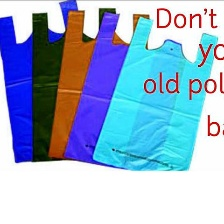plastic_bag: (89, 14, 220, 171), (61, 9, 185, 169), (43, 4, 157, 166), (26, 4, 126, 164), (0, 0, 89, 165)
